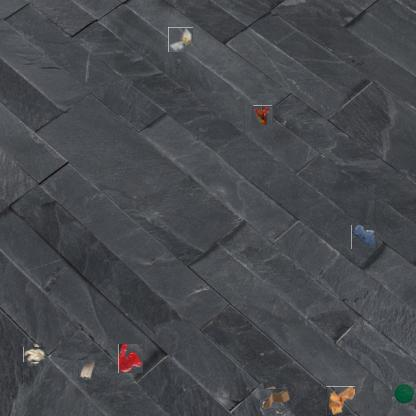dirty: (326, 386, 355, 415), (262, 387, 288, 413), (168, 27, 193, 52), (392, 382, 416, 406), (252, 106, 273, 126), (25, 345, 45, 364), (76, 361, 96, 380)
liquid: (118, 343, 143, 373), (351, 226, 376, 250)
